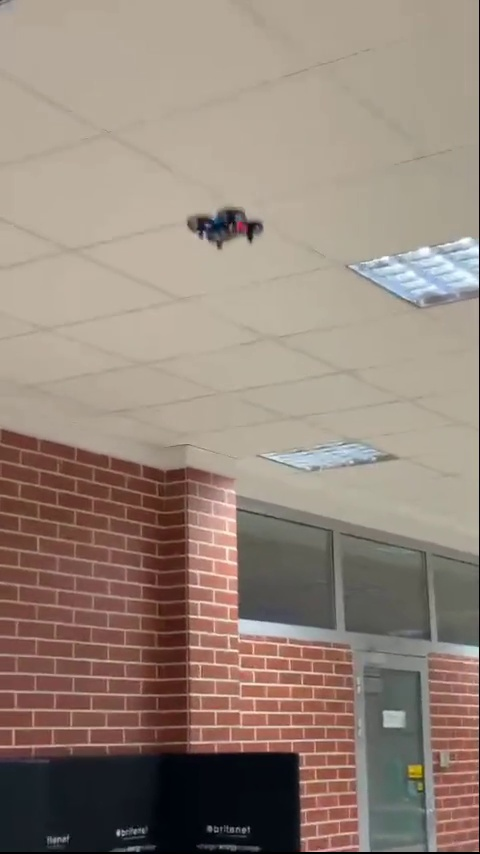drone: (187, 208, 261, 252)
